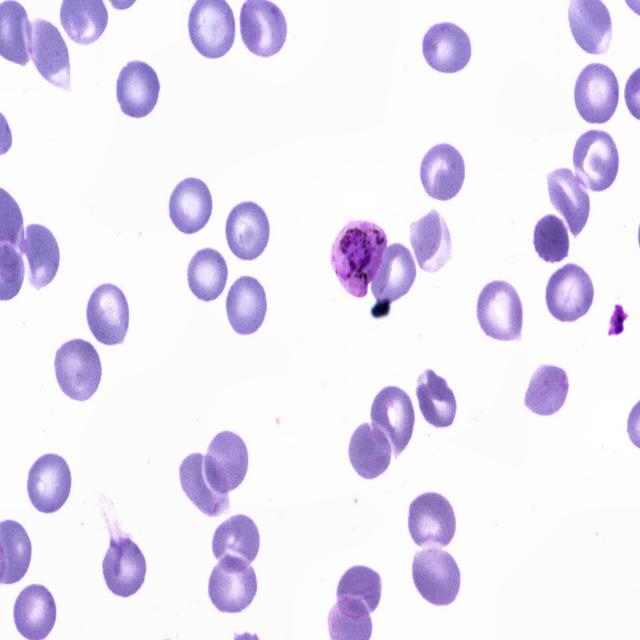red blood cell: (410, 544, 464, 610), (52, 337, 106, 403), (206, 551, 260, 616), (542, 260, 596, 324), (571, 61, 623, 126), (202, 427, 250, 497), (24, 452, 76, 516), (113, 56, 164, 121), (572, 130, 623, 195), (28, 17, 72, 92), (420, 18, 476, 76), (418, 139, 468, 203), (100, 534, 148, 600), (370, 385, 415, 455), (476, 278, 525, 342), (407, 490, 458, 551), (166, 175, 217, 236), (212, 512, 262, 574), (546, 168, 592, 235), (178, 453, 227, 515), (409, 208, 455, 274), (18, 220, 61, 288), (86, 282, 130, 348), (370, 240, 415, 304), (334, 564, 386, 619), (348, 419, 393, 481), (226, 276, 270, 336), (226, 201, 268, 261), (416, 368, 457, 428), (524, 364, 570, 416), (186, 248, 228, 302), (532, 212, 571, 266)
trophozoite: (329, 218, 390, 300)
